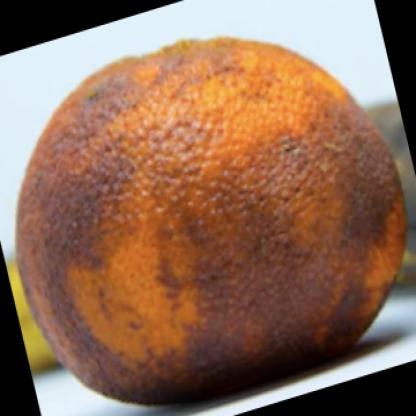rotten_orange: (7, 30, 409, 409)
